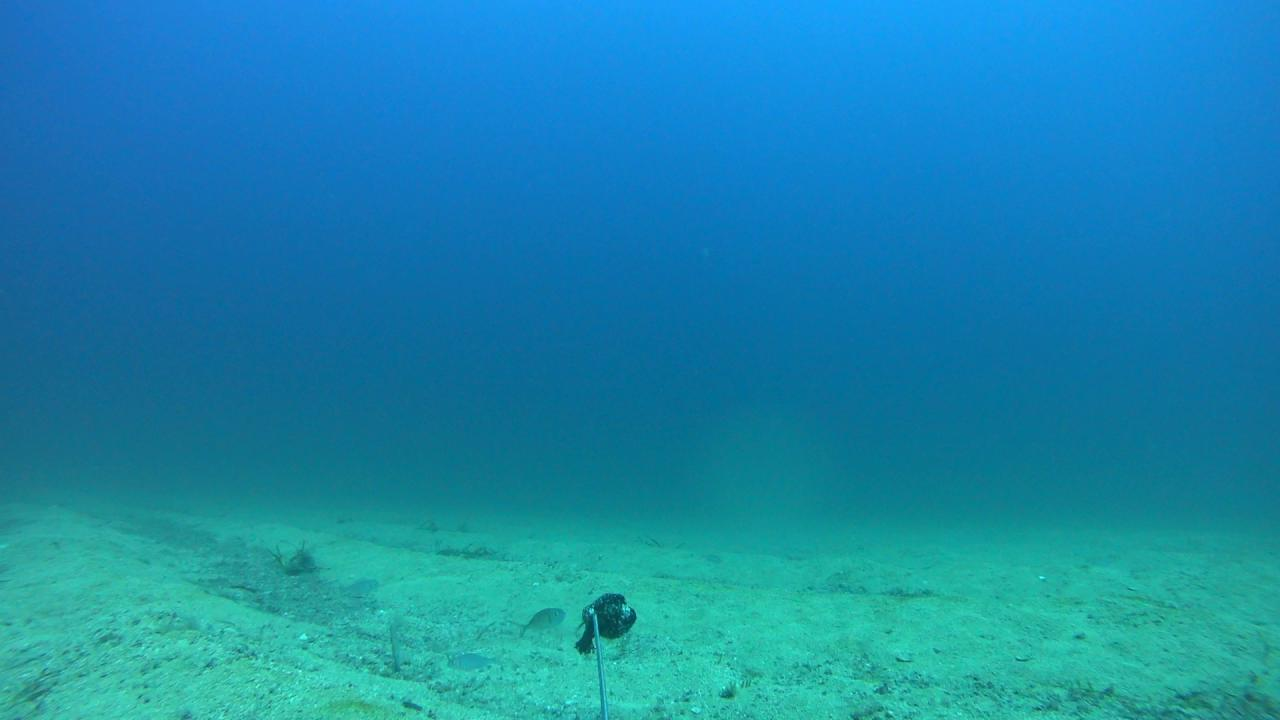pagellus: (507, 607, 564, 637), (447, 650, 507, 671)
